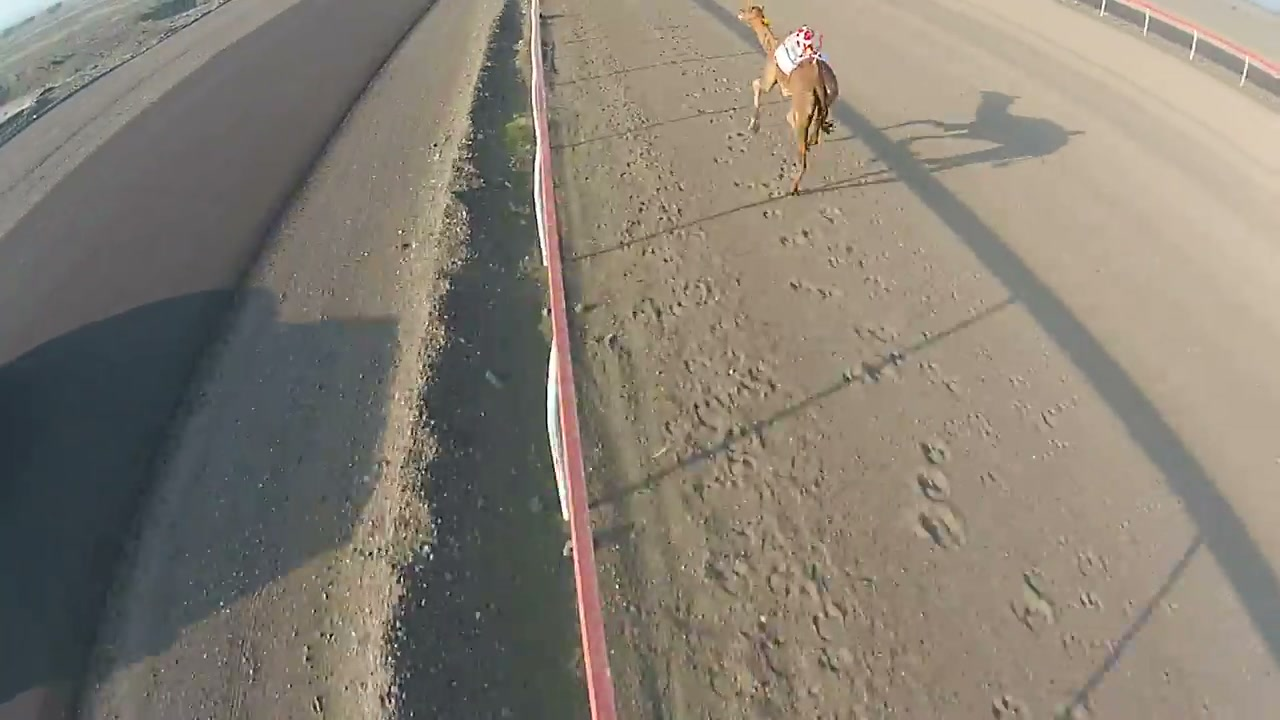animal_foot_print: (737, 182, 1122, 719)
